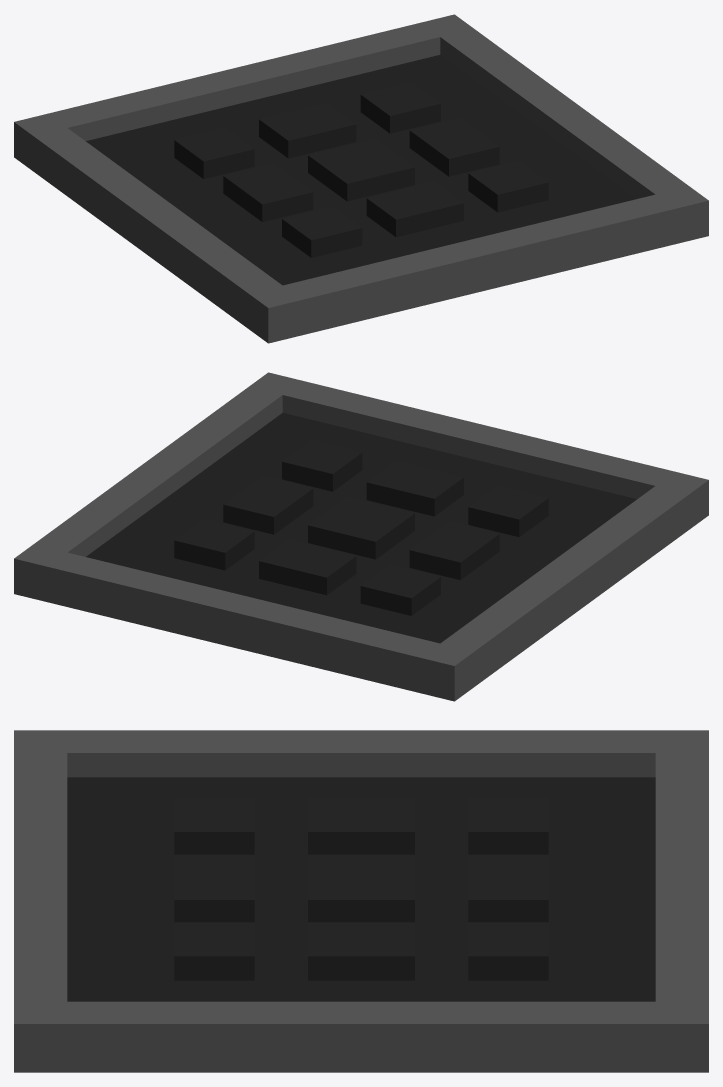
File: trap_DOTS_BLACK.glb
3 views of the same model, one above another, from view 1: azimuth 30°, elevation 25°; view 2: azimuth 150°, elevation 25°; view 3: azimuth 270°, elevation 25° (orthographic). The views are drawn at different scales.
Parts seen in each view (by area): view 1: item_TRAP_DOTS_BLACK; view 2: item_TRAP_DOTS_BLACK; view 3: item_TRAP_DOTS_BLACK.
Part boxes in pixels (x1,y1,x2,y2): item_TRAP_DOTS_BLACK: (14, 14, 708, 343); item_TRAP_DOTS_BLACK: (14, 372, 708, 701); item_TRAP_DOTS_BLACK: (14, 730, 708, 1072).
Bounding box in the file's own units: 0.5909 × 0.0455 × 0.5909.
Materials: 1 (1 with a texture image).
